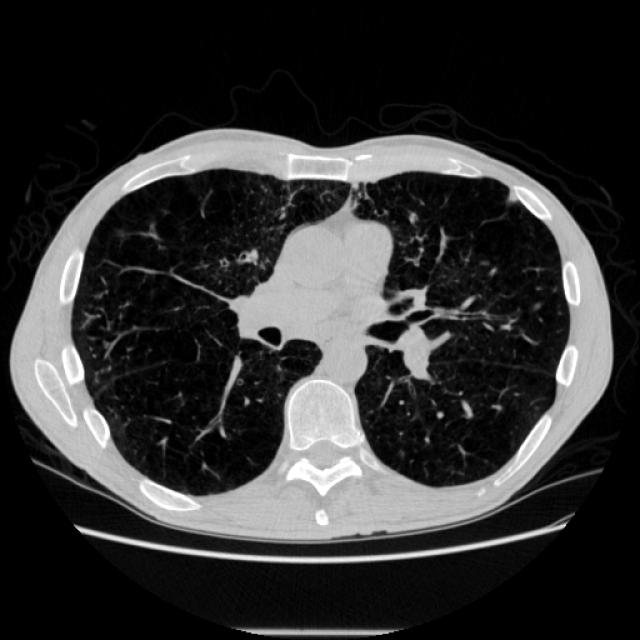nodule: (501, 186, 521, 206)
